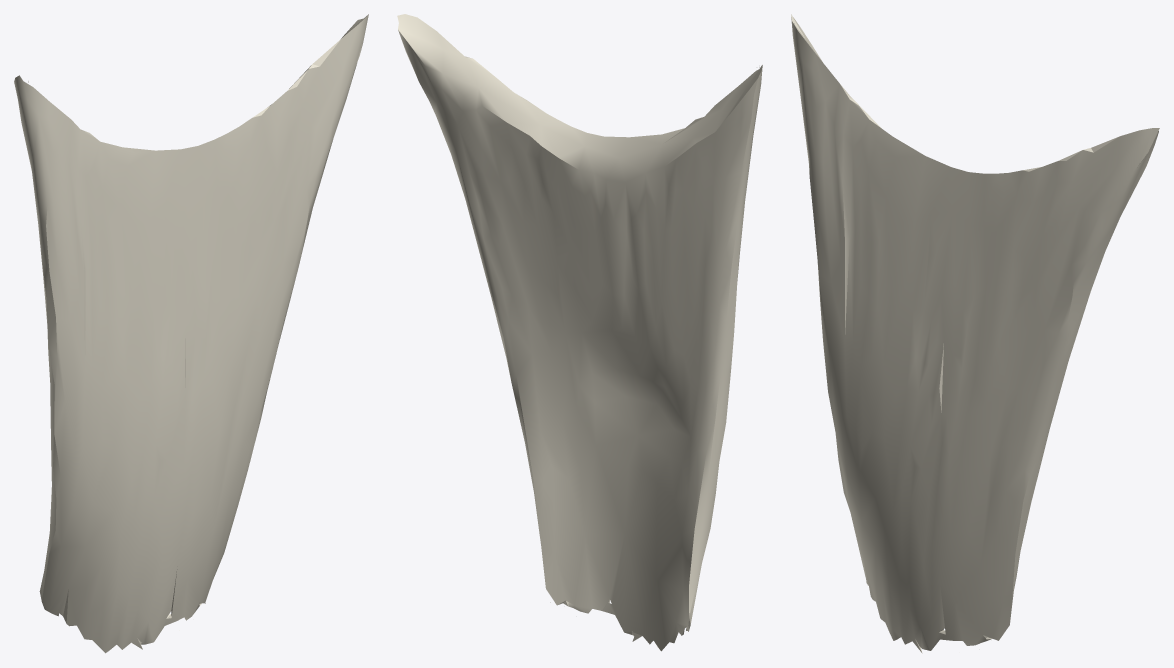
The model's file is fma44585_mm1402m.glb.
3 views of the same model, side by side, from view 1: azimuth 30°, elevation 25°; view 2: azimuth 150°, elevation 25°; view 3: azimuth 330°, elevation 25° (orthographic).
Parts seen in each view (by area): view 1: FMA44585_MM1402M; view 2: FMA44585_MM1402M; view 3: FMA44585_MM1402M.
Boxes of the visible parts, <box> form: FMA44585_MM1402M: <box>14,14,368,653</box>; FMA44585_MM1402M: <box>397,14,762,651</box>; FMA44585_MM1402M: <box>791,14,1159,653</box>.
Bounding box in the file's own units: 0.0384 × 0.062 × 0.00672.
